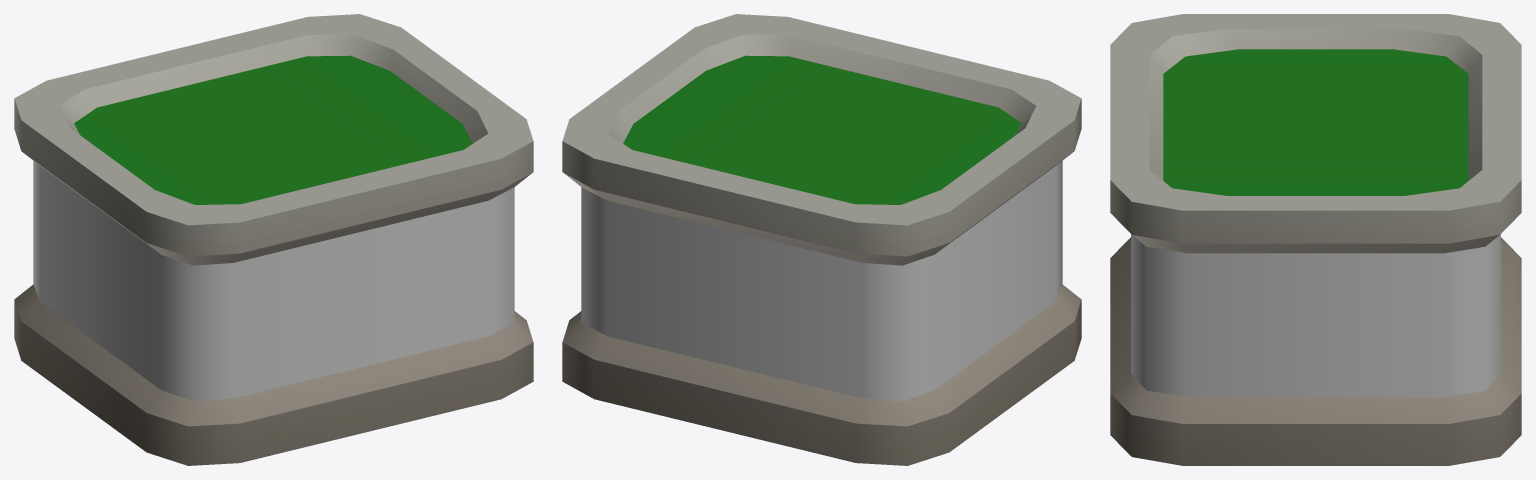
File: FlowerPlacet_5_2_C.fbx
3 renders of one model, left to right at view 1: azimuth 30°, elevation 25°; view 2: azimuth 150°, elevation 25°; view 3: azimuth 270°, elevation 25°, orthographic. The views are drawn at different scales.
Visible parts, largest first — view 1: FlowerPlacet_5_2_C; view 2: FlowerPlacet_5_2_C; view 3: FlowerPlacet_5_2_C.
Part boxes in pixels (x1,y1,x2,y2): FlowerPlacet_5_2_C: [14, 14, 533, 465]; FlowerPlacet_5_2_C: [562, 14, 1081, 465]; FlowerPlacet_5_2_C: [1110, 14, 1521, 465].
Size of the model in its own units: 143 by 86.38 by 126.
